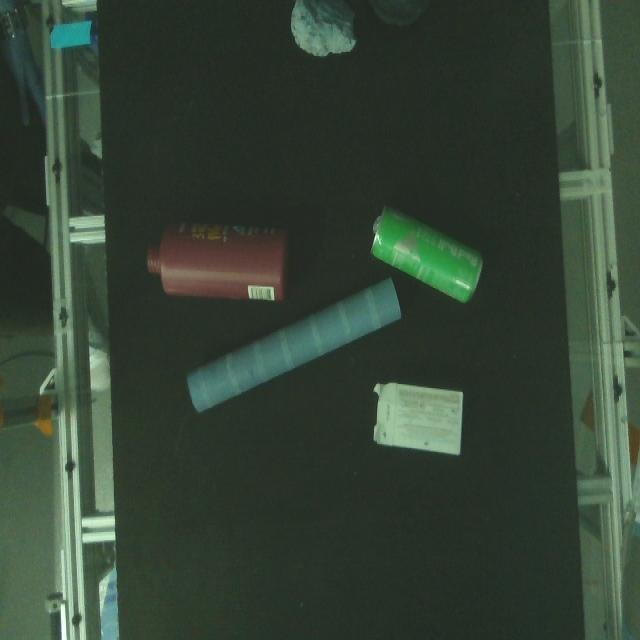non-paper: (140, 205, 294, 310), (367, 202, 496, 312), (286, 0, 362, 61), (363, 0, 433, 29)
paper: (184, 270, 404, 423), (374, 371, 471, 460)
